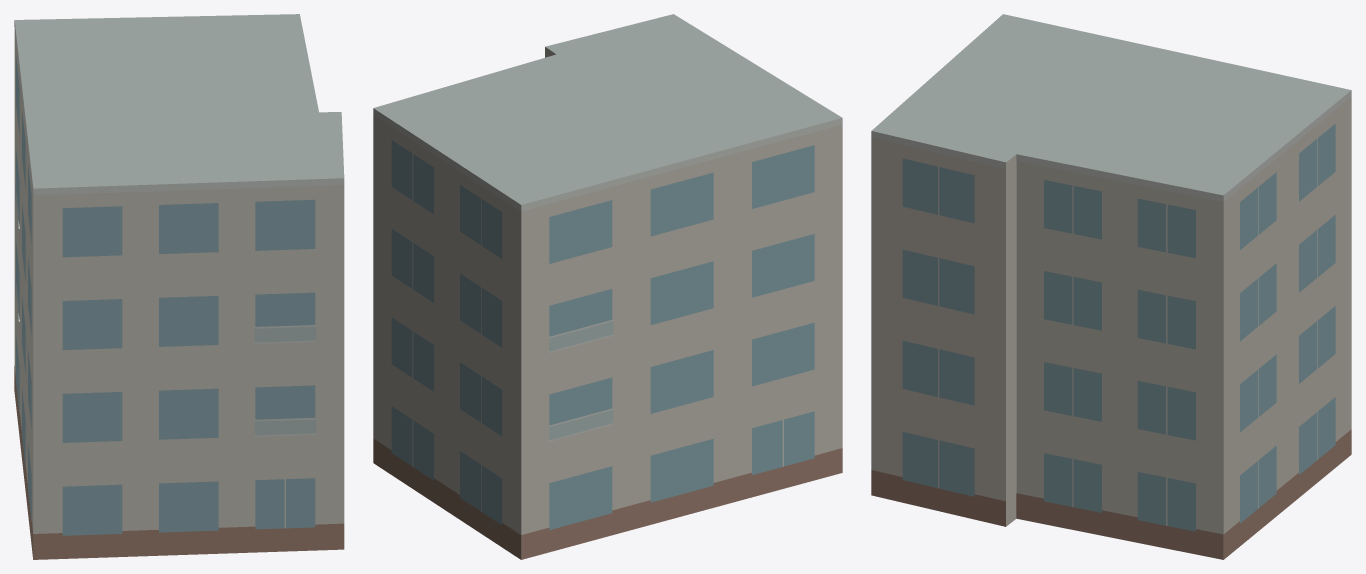
The model's file is survey-upis-33045623.glb.
The picture shows the model from 3 angles, left to right: view 1: azimuth 30°, elevation 25°; view 2: azimuth 150°, elevation 25°; view 3: azimuth 270°, elevation 25°; orthographic projection. The views are drawn at different scales.
Parts seen in each view (by area): view 1: survey-upis-33045623.tmp; view 2: survey-upis-33045623.tmp; view 3: survey-upis-33045623.tmp.
Boxes of the visible parts, box(x1,y1,x2,y2) form: survey-upis-33045623.tmp: box(14, 14, 344, 559); survey-upis-33045623.tmp: box(373, 14, 842, 559); survey-upis-33045623.tmp: box(871, 14, 1351, 559).
Size of the model in its own units: 14.1 by 13.2 by 15.77.
